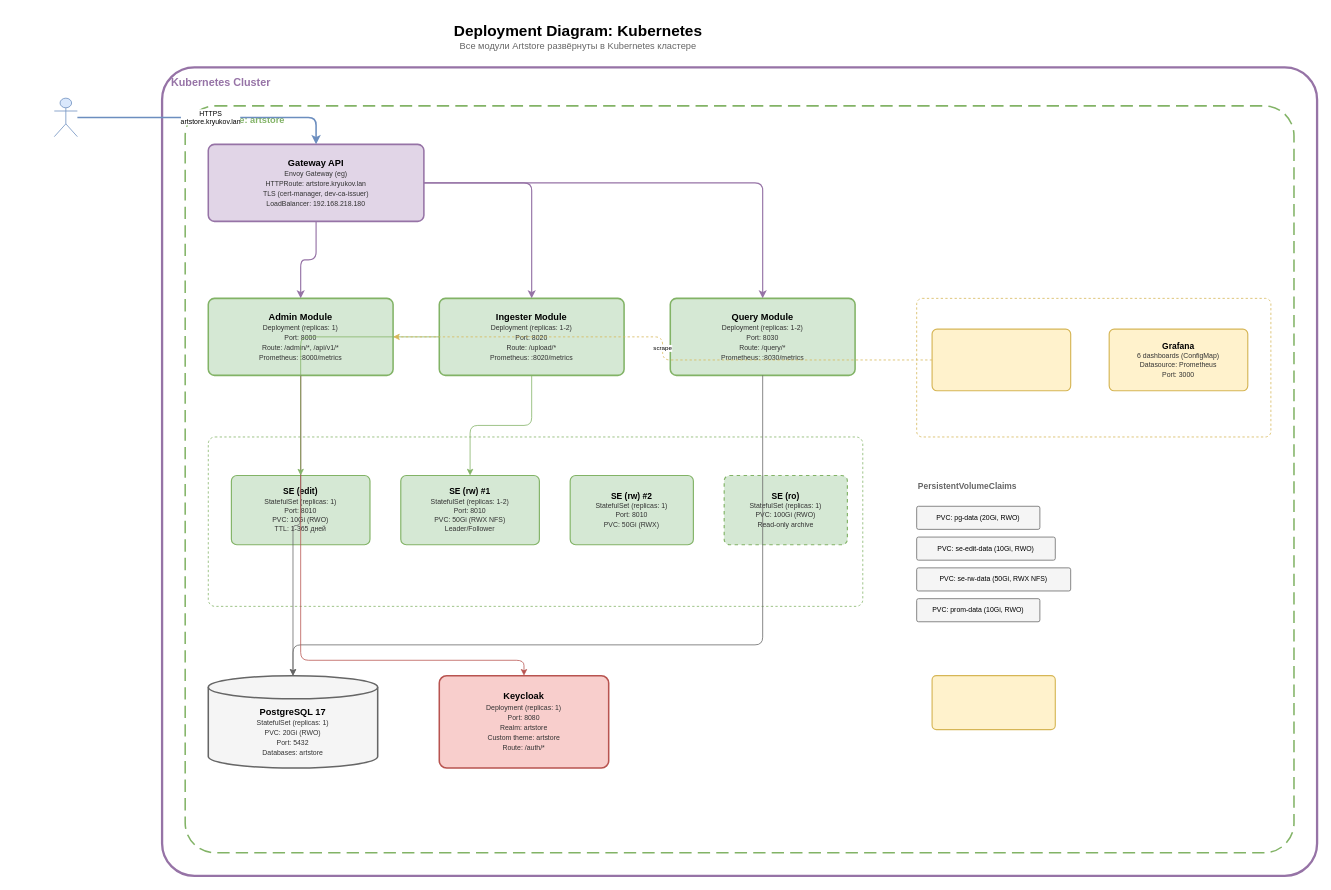
Some shapes in this 1331 by 890 pixel diagram are drawn without their labels. The shapes that lost their labels are listed below. From the top down, each one's box as (x1, y1, x2, y2) in pixels, then its label:
(54, 97, 77, 137): Пользователи Администраторы, Разработчики, Внешние системы (M2M)
(931, 328, 1071, 391): Prometheus Scrape по annotations prometheus.io/scrape: true PVC: 10Gi
(916, 298, 1271, 437): Monitoring (опционально)
(208, 436, 863, 606): Storage Elements
(931, 675, 1056, 730): AlertManager PrometheusRule CRD 6 алертов
